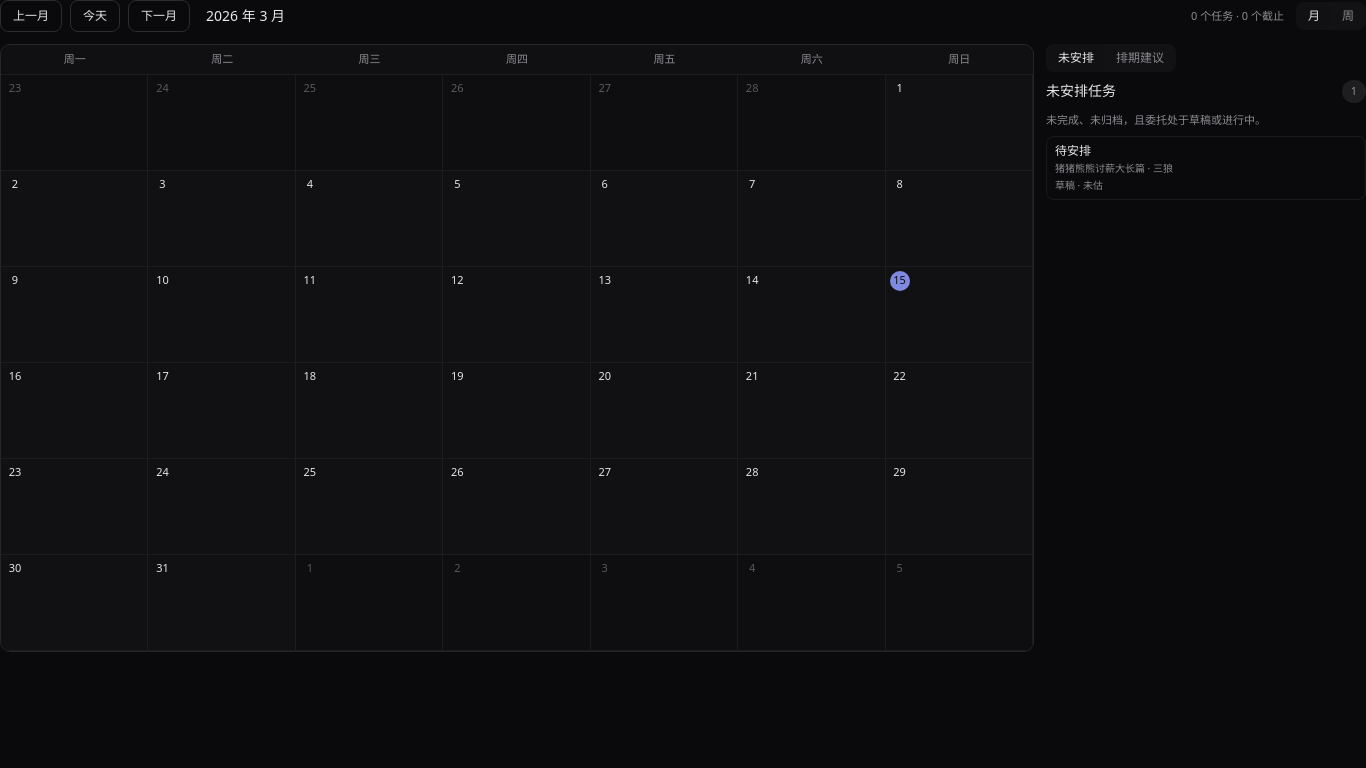
Test: 日历页：手动排期 › 从未安排任务安排日期，保存后刷新并关闭面板
Click the button with test id "unscheduled-item" at (1073, 151), box [1046,136,1365,200]
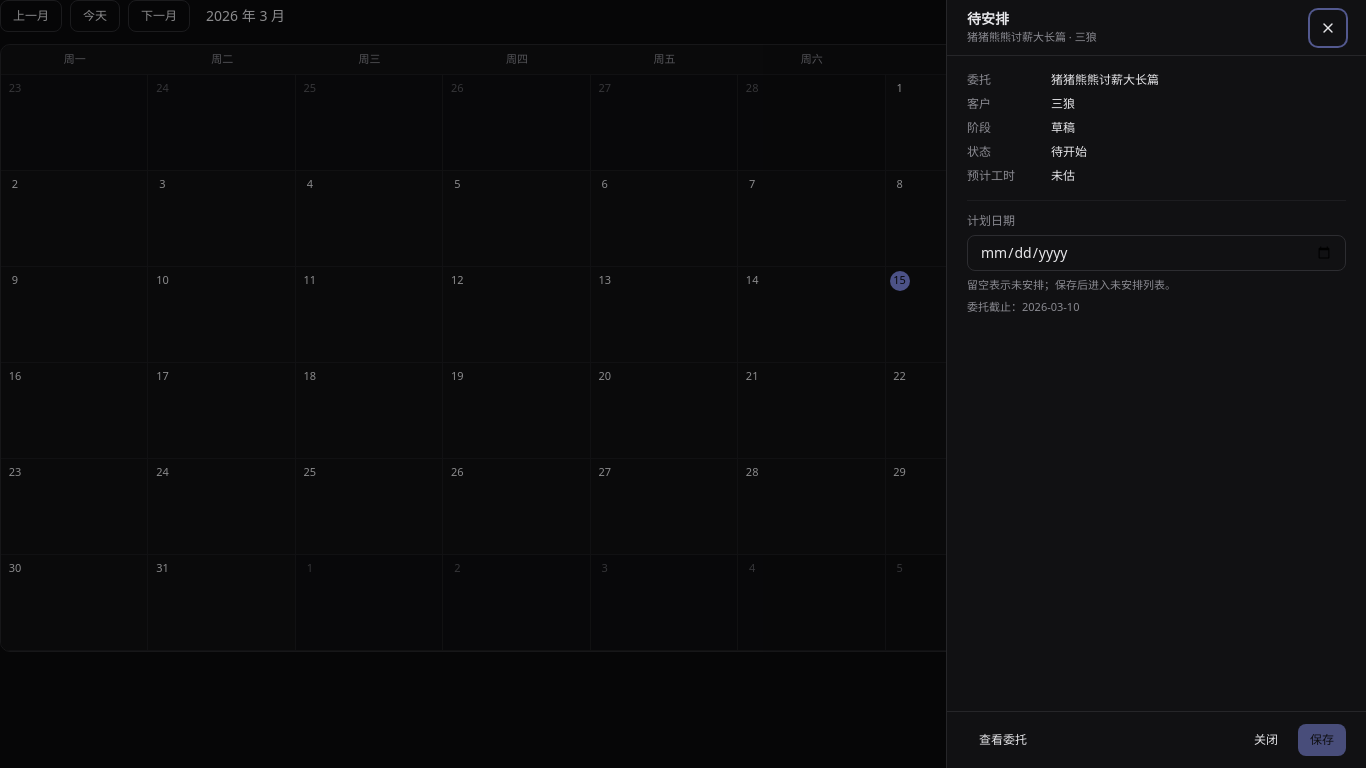
Type "2026-03-05" into the date field labelled "计划日期" at (1156, 253), box [967,235,1346,271]
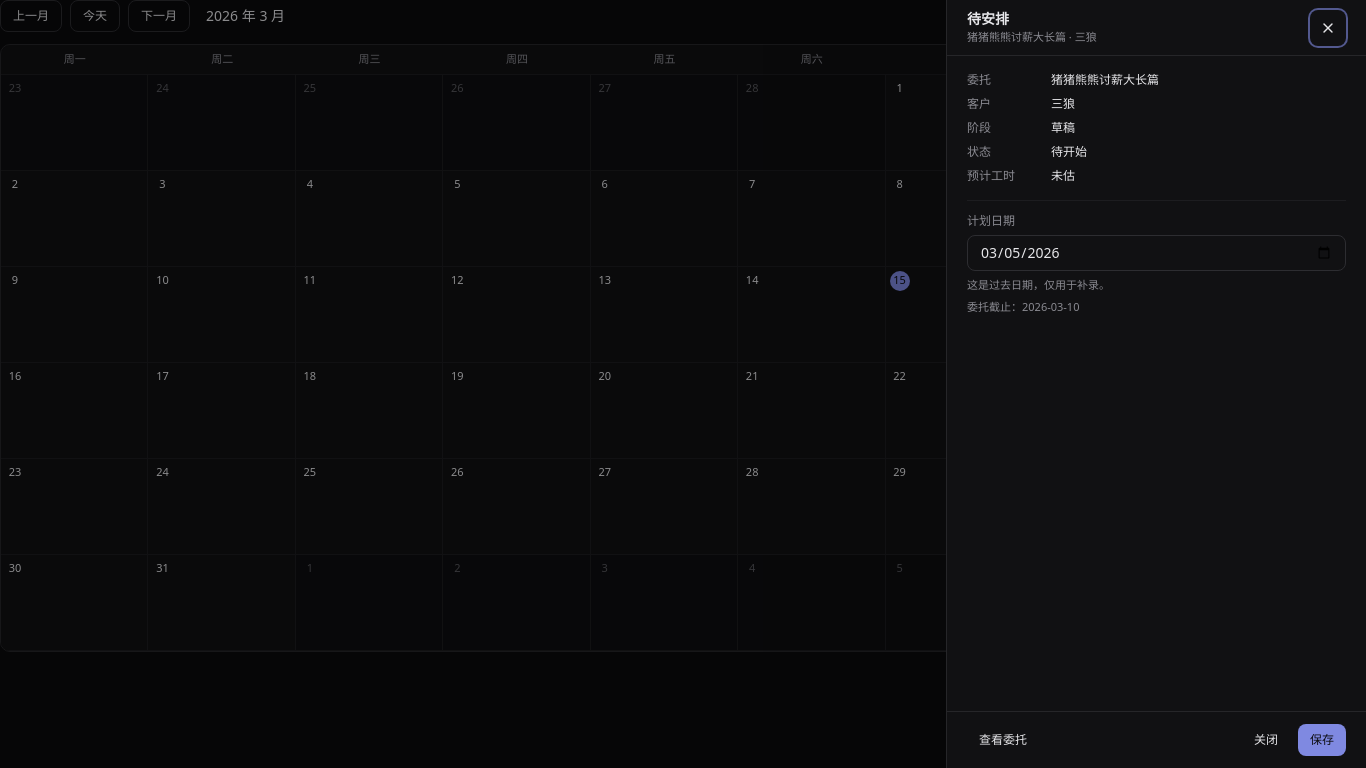
Click the button "保存" at (1322, 740), box [1298,724,1346,756]
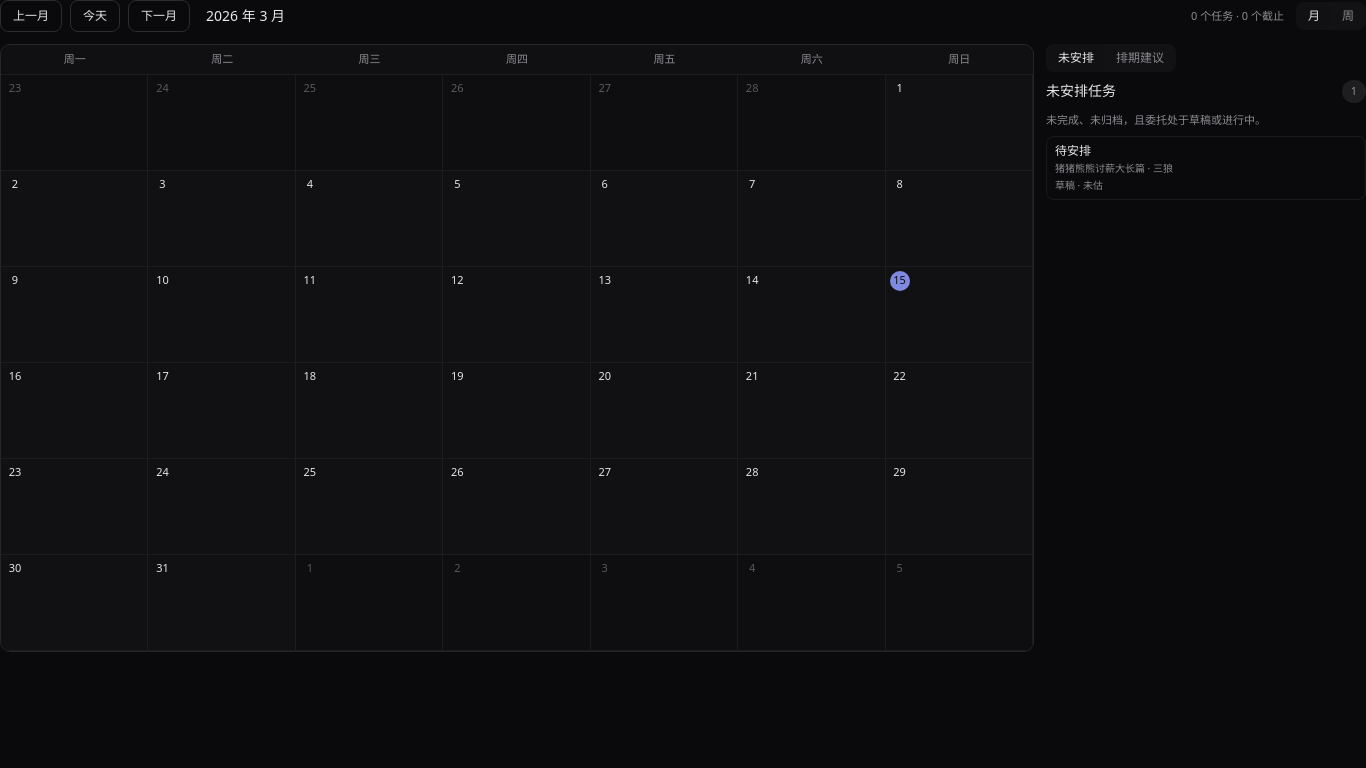
Expected: the dialog with test id "sheet" is gone
